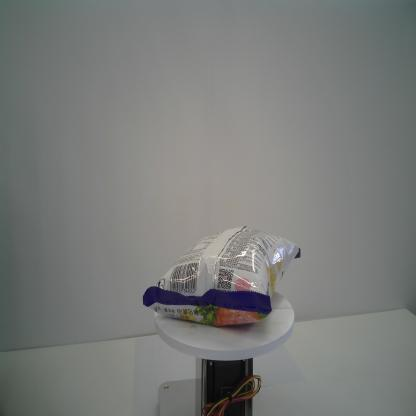Puffed Food: (140, 223, 302, 331)
